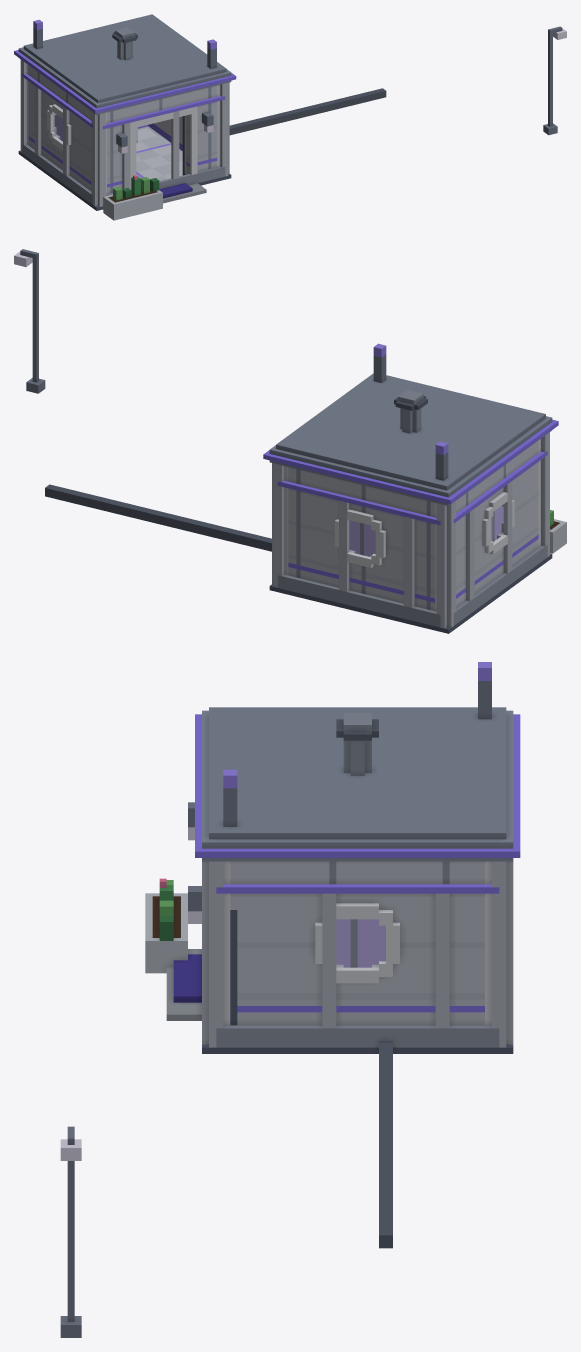
The model's file is antenna_e5_l1.glb.
3 renders of one model, top to bottom at view 1: azimuth 30°, elevation 25°; view 2: azimuth 150°, elevation 25°; view 3: azimuth 270°, elevation 25°, orthographic. The views are drawn at different scales.
Parts seen in each view (by area): view 1: CutRoof, Base, CutPZ, CutNX, CutNZ; view 2: CutRoof, Base, CutNZ, CutNX, CutPZ; view 3: CutRoof, CutPX, Base, CutPZ, CutNZ.
Boxes of the visible parts, <box> form: CutRoof: <box>14,14,236,114</box>; Base: <box>18,26,566,220</box>; CutPZ: <box>91,82,229,177</box>; CutNX: <box>22,65,92,171</box>; CutNZ: <box>20,59,28,125</box>; CutRoof: <box>263,343,558,505</box>; Base: <box>14,249,566,633</box>; CutNZ: <box>272,463,455,590</box>; CutNX: <box>453,440,547,581</box>; CutPZ: <box>538,432,549,520</box>; CutRoof: <box>195,662,520,861</box>; CutPX: <box>216,861,499,989</box>; Base: <box>60,878,513,1337</box>; CutPZ: <box>188,802,237,989</box>; CutNZ: <box>485,861,513,989</box>.
Size of the model in its own units: 14.3 by 4.2 by 6.5.
